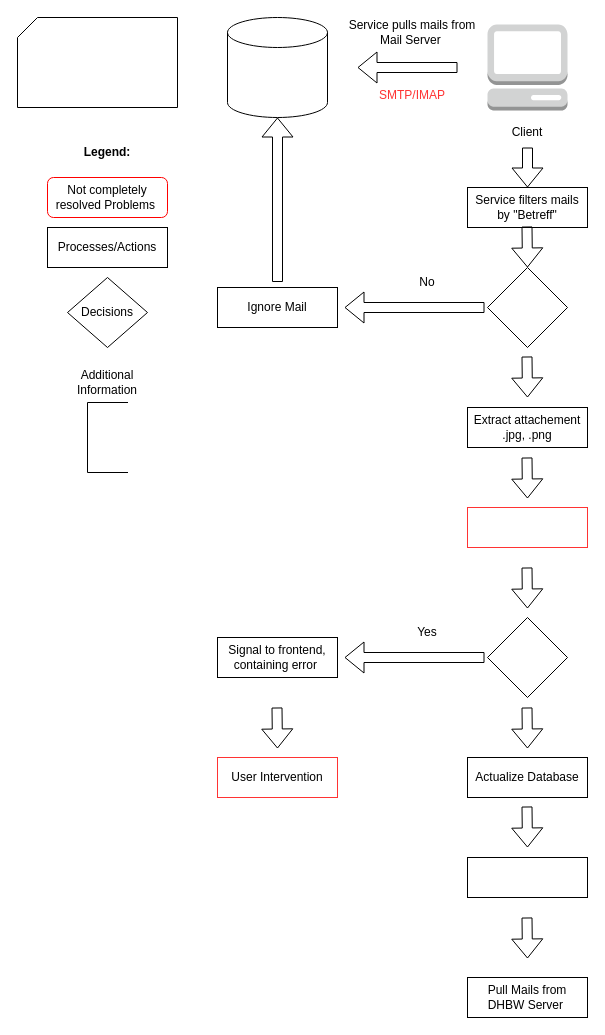
The diagram is 605 pixels wide and 1035 high, and some of its shapes have lost their labels. The centre of each missing label's shape, as x and y in pixels:
DHBW Mail Server: point 277,67
Errors in Signature List: point 527,657
Mail relevant?: point 527,307
Main Flow Version A: point 97,62
Move & Mark Mail as Done: point 527,877
Open CV Analyzes Signature List: point 527,527
